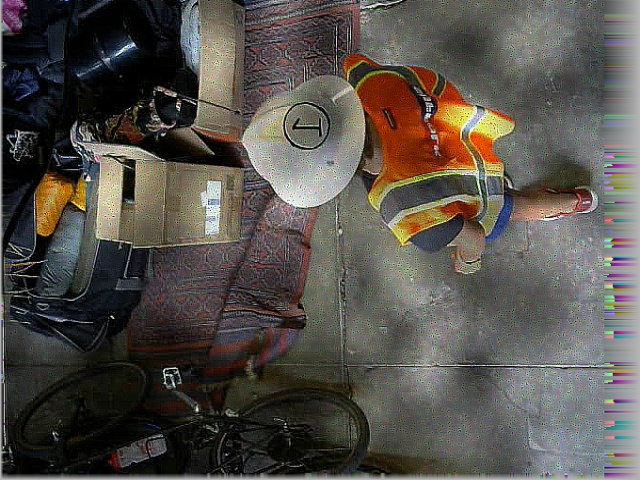one: (284, 101, 328, 149)
